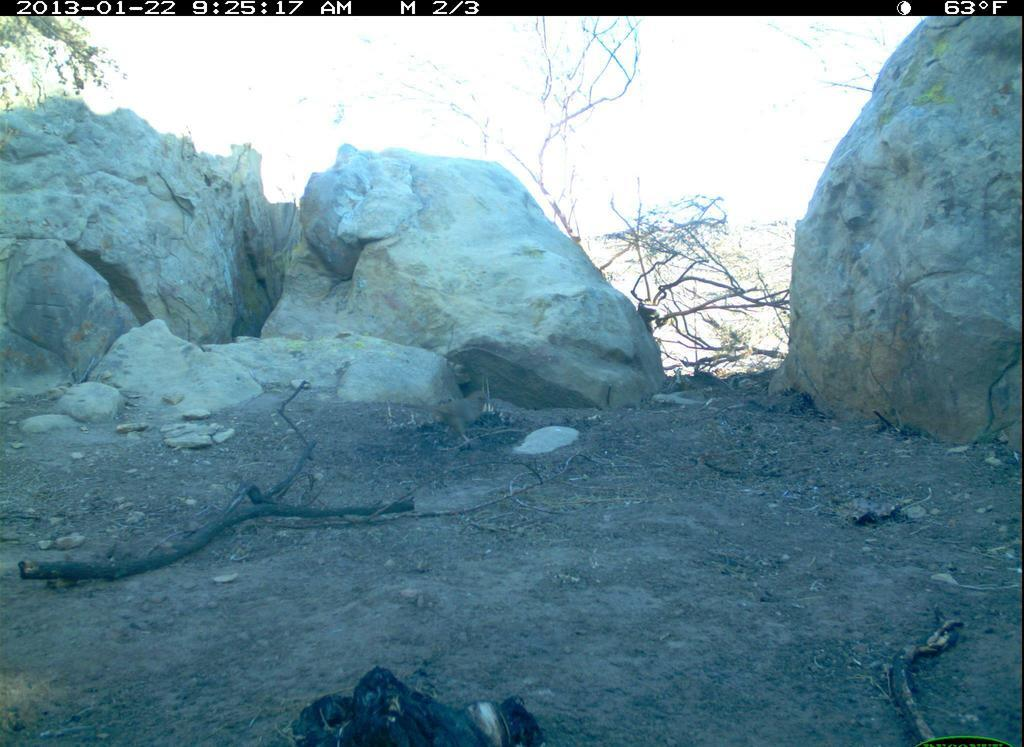bird: (397, 386, 507, 454)
